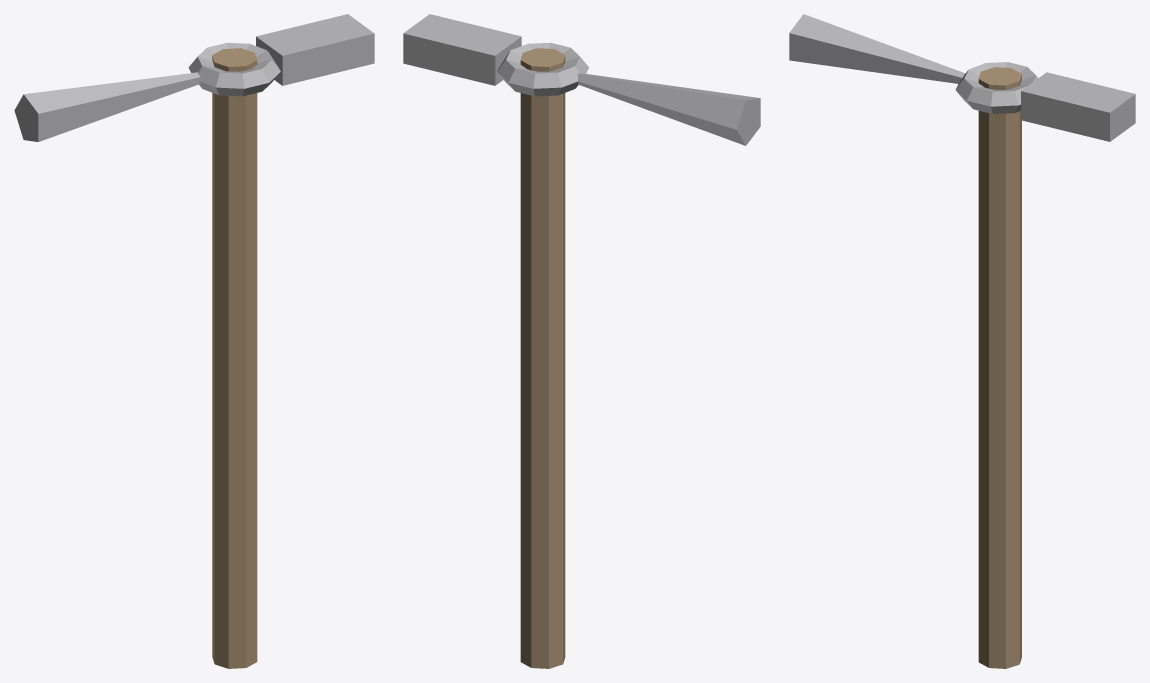
The model's file is pickaxe.dae.
3 renders of one model, left to right at view 1: azimuth 30°, elevation 25°; view 2: azimuth 150°, elevation 25°; view 3: azimuth 330°, elevation 25°, orthographic. The views are drawn at different scales.
Visible parts, largest first — view 1: Cylinder, Cone, Cube, Torus; view 2: Cylinder, Cone, Cube, Torus; view 3: Cylinder, Cube, Cone, Torus.
Part boxes in pixels (x1,y1,x2,y2): Cylinder: (212, 48, 257, 668); Cone: (14, 72, 200, 141); Cube: (256, 14, 374, 85); Torus: (188, 42, 280, 96); Cylinder: (520, 48, 565, 668); Cone: (578, 73, 760, 145); Cube: (403, 14, 521, 85); Torus: (497, 42, 588, 96); Cylinder: (978, 67, 1021, 668); Cube: (1021, 72, 1135, 141); Cone: (789, 14, 965, 83); Torus: (955, 62, 1037, 113).
Size of the model in its own units: 58 by 13.31 by 102.
